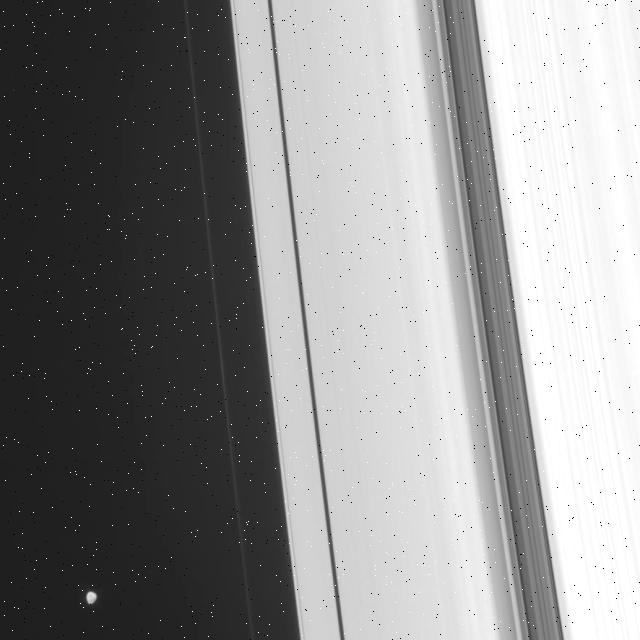Saturn: (175, 0, 640, 640)
